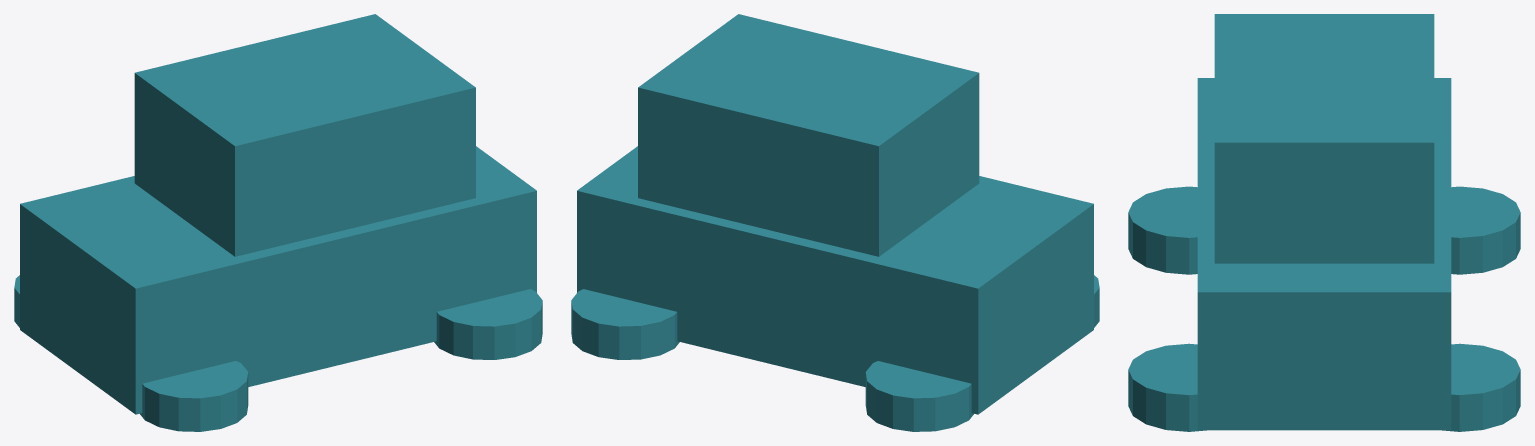
The model's file is tech_128.glb.
3 views of the same model, side by side, from view 1: azimuth 30°, elevation 25°; view 2: azimuth 150°, elevation 25°; view 3: azimuth 270°, elevation 25° (orthographic). The views are drawn at different scales.
Visible parts, largest first — view 1: world; view 2: world; view 3: world.
Part boxes in pixels (box(x1,y1,x2,y2)): world: box(14, 14, 542, 431); world: box(571, 14, 1099, 431); world: box(1128, 14, 1520, 431).
Bounding box in the file's own units: 1.5 × 0.86 × 1.16.
